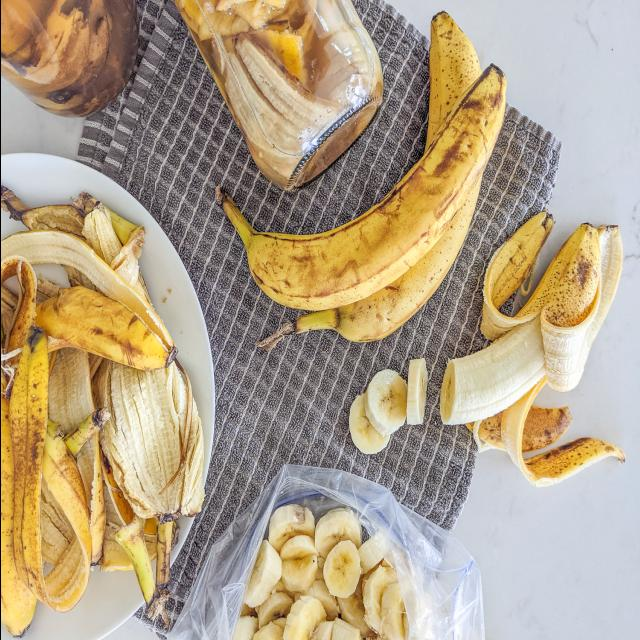banana_peel: (185, 0, 517, 389), (330, 174, 638, 516), (4, 168, 228, 632)
